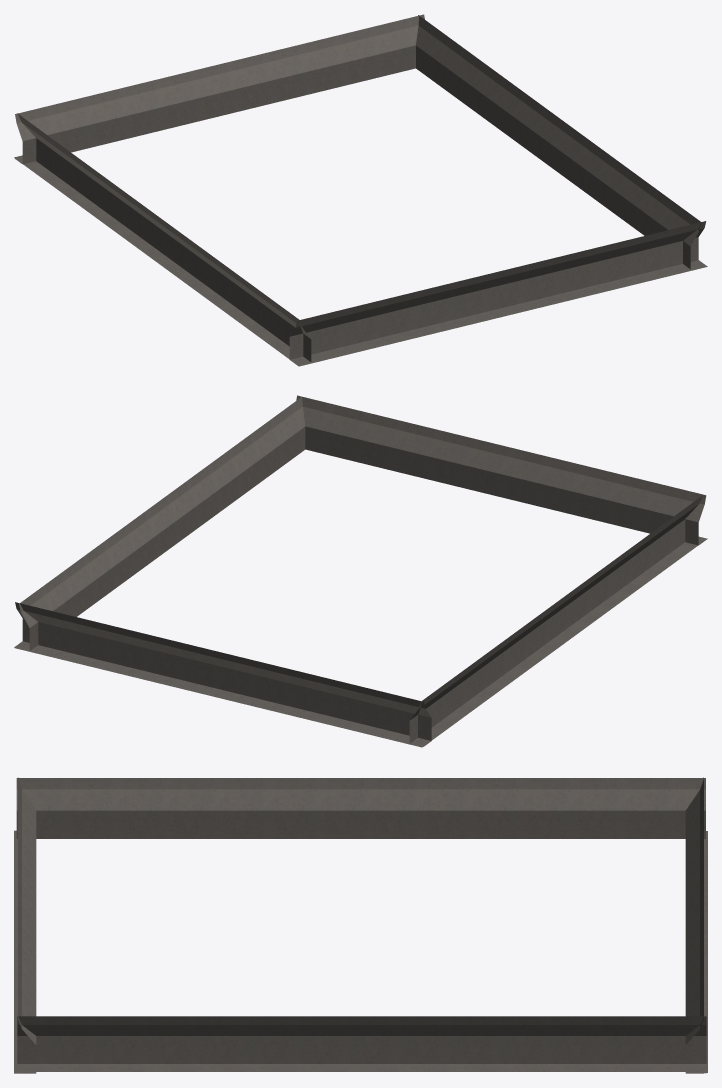
File: Wall.fbx
3 views of the same model, one above another, from view 1: azimuth 30°, elevation 25°; view 2: azimuth 150°, elevation 25°; view 3: azimuth 270°, elevation 25° (orthographic). The views are drawn at different scales.
Visible parts, largest first — view 1: wall_02, wall_04, wall_01, wall_03; view 2: wall_04, wall_02, wall_01, wall_03; view 3: wall_03, wall_01, wall_04, wall_02.
Boxes of the visible parts, <box> form: wall_02: <box>14,14,424,164</box>; wall_04: <box>289,221,707,366</box>; wall_01: <box>416,15,703,269</box>; wall_03: <box>16,113,311,365</box>; wall_04: <box>296,395,707,545</box>; wall_02: <box>14,602,431,747</box>; wall_01: <box>19,397,305,650</box>; wall_03: <box>409,495,706,745</box>; wall_03: <box>16,778,705,838</box>; wall_01: <box>17,1016,706,1071</box>; wall_04: <box>14,777,36,1073</box>; wall_02: <box>685,777,707,1073</box>.
Bounding box in the file's own units: 2486 × 259 × 3003.
1 material, 1 textured.
